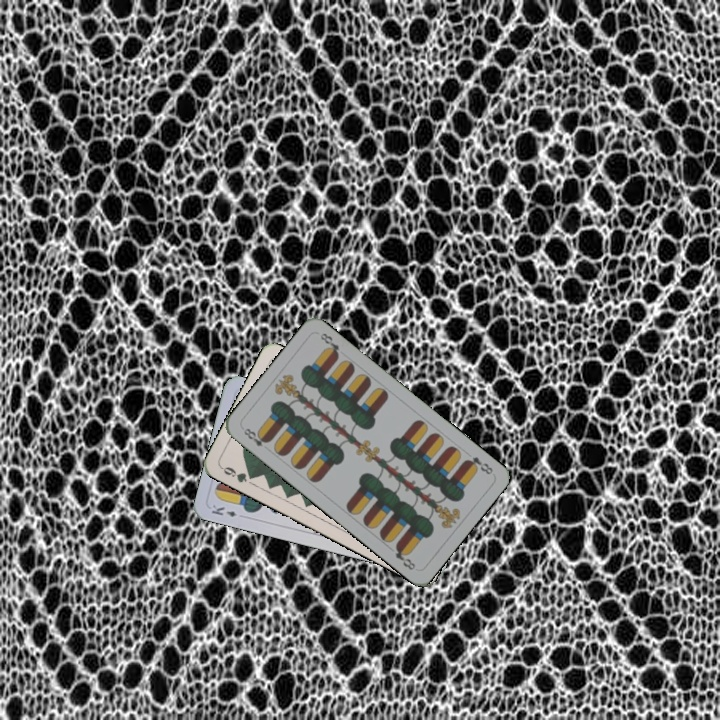E8: (460, 453, 496, 477), (239, 424, 272, 449)
EK: (207, 501, 239, 519)
G9: (217, 462, 258, 485)
